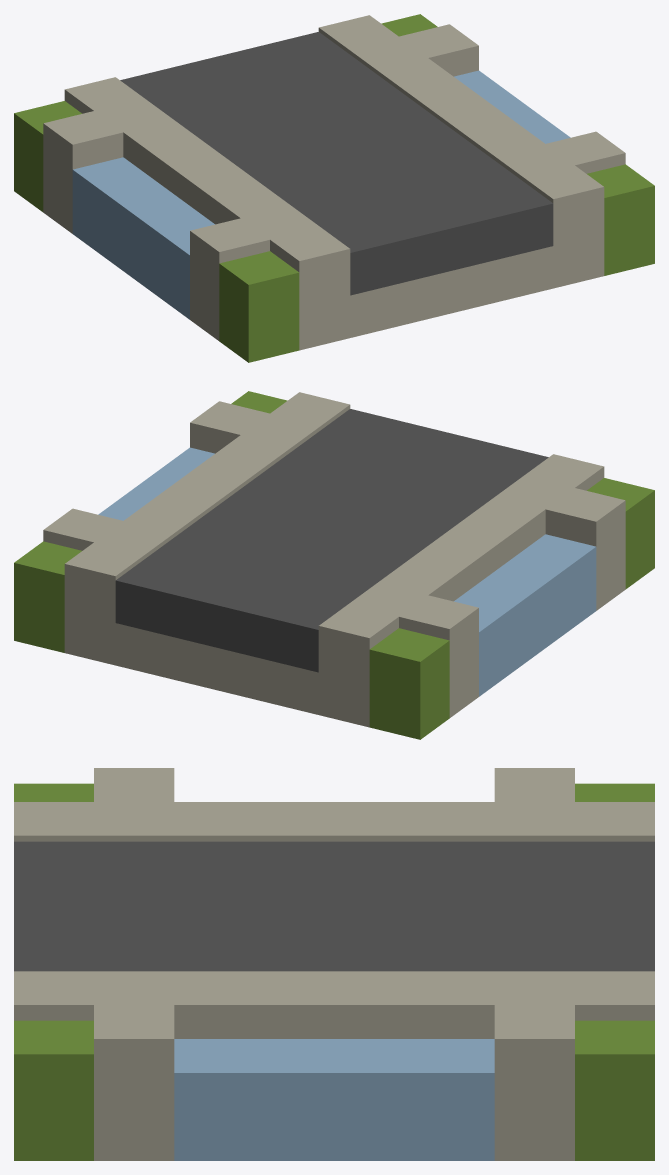
Rendered from roadTile_217.obj.
3 views of the same model, one above another, from view 1: azimuth 30°, elevation 25°; view 2: azimuth 150°, elevation 25°; view 3: azimuth 270°, elevation 25° (orthographic). The views are drawn at different scales.
Visible parts, largest first — view 1: Mesh1_Group1_Model.216; view 2: Mesh1_Group1_Model.216; view 3: Mesh1_Group1_Model.216.
Part boxes in pixels (bbox=[...]): Mesh1_Group1_Model.216: bbox=[14, 14, 654, 362]; Mesh1_Group1_Model.216: bbox=[14, 391, 654, 739]; Mesh1_Group1_Model.216: bbox=[14, 768, 654, 1160].
Bounding box in the file's own units: 3 × 0.63 × 3.
